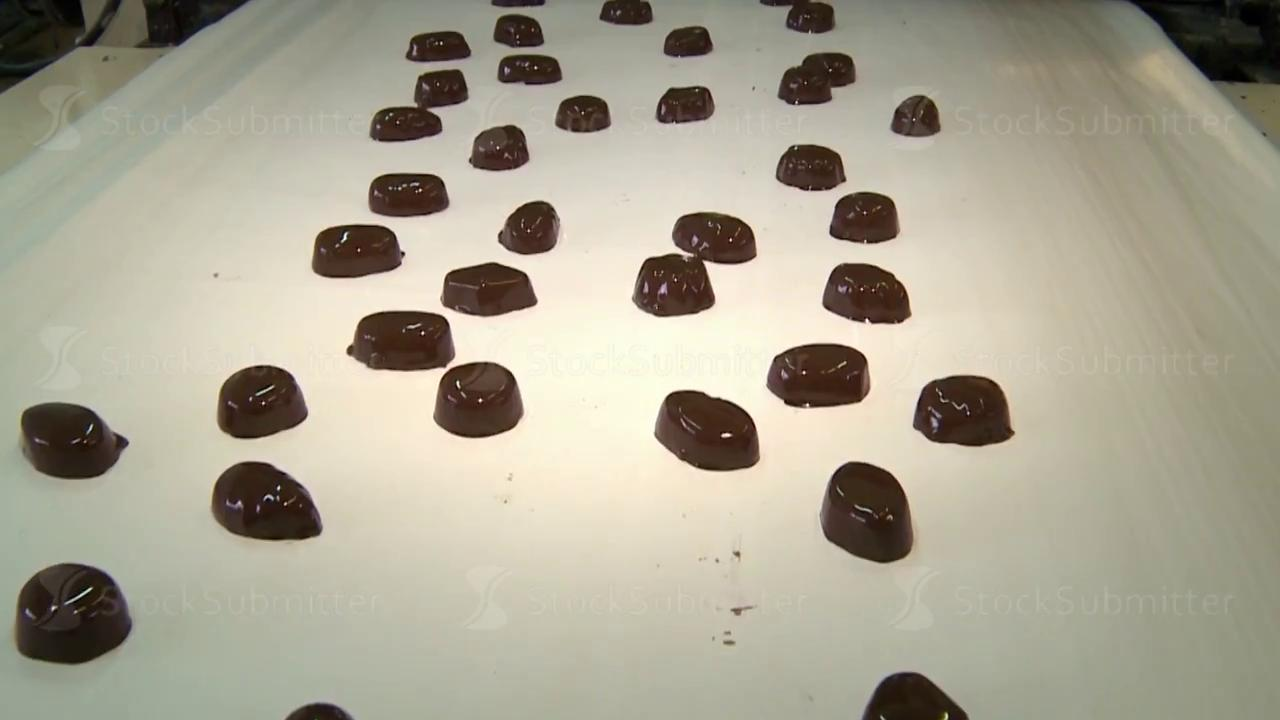chocolate: (15, 561, 132, 664), (819, 460, 913, 562), (211, 460, 322, 540), (20, 400, 129, 479), (654, 389, 759, 471), (913, 374, 1014, 446), (433, 361, 523, 437), (766, 343, 870, 408), (217, 364, 308, 438), (347, 310, 454, 370), (822, 262, 911, 324), (632, 253, 715, 316), (441, 262, 537, 316), (861, 671, 969, 719), (312, 223, 403, 277), (672, 211, 756, 263), (829, 191, 899, 243), (368, 172, 448, 216), (776, 143, 846, 191), (498, 200, 560, 254), (469, 124, 529, 170), (370, 106, 441, 141), (656, 85, 714, 123), (891, 94, 940, 137), (555, 94, 610, 132), (414, 68, 467, 107), (497, 54, 562, 85), (406, 30, 470, 61), (494, 14, 543, 47), (663, 25, 712, 57), (785, 1, 834, 33), (599, 0, 652, 25)
